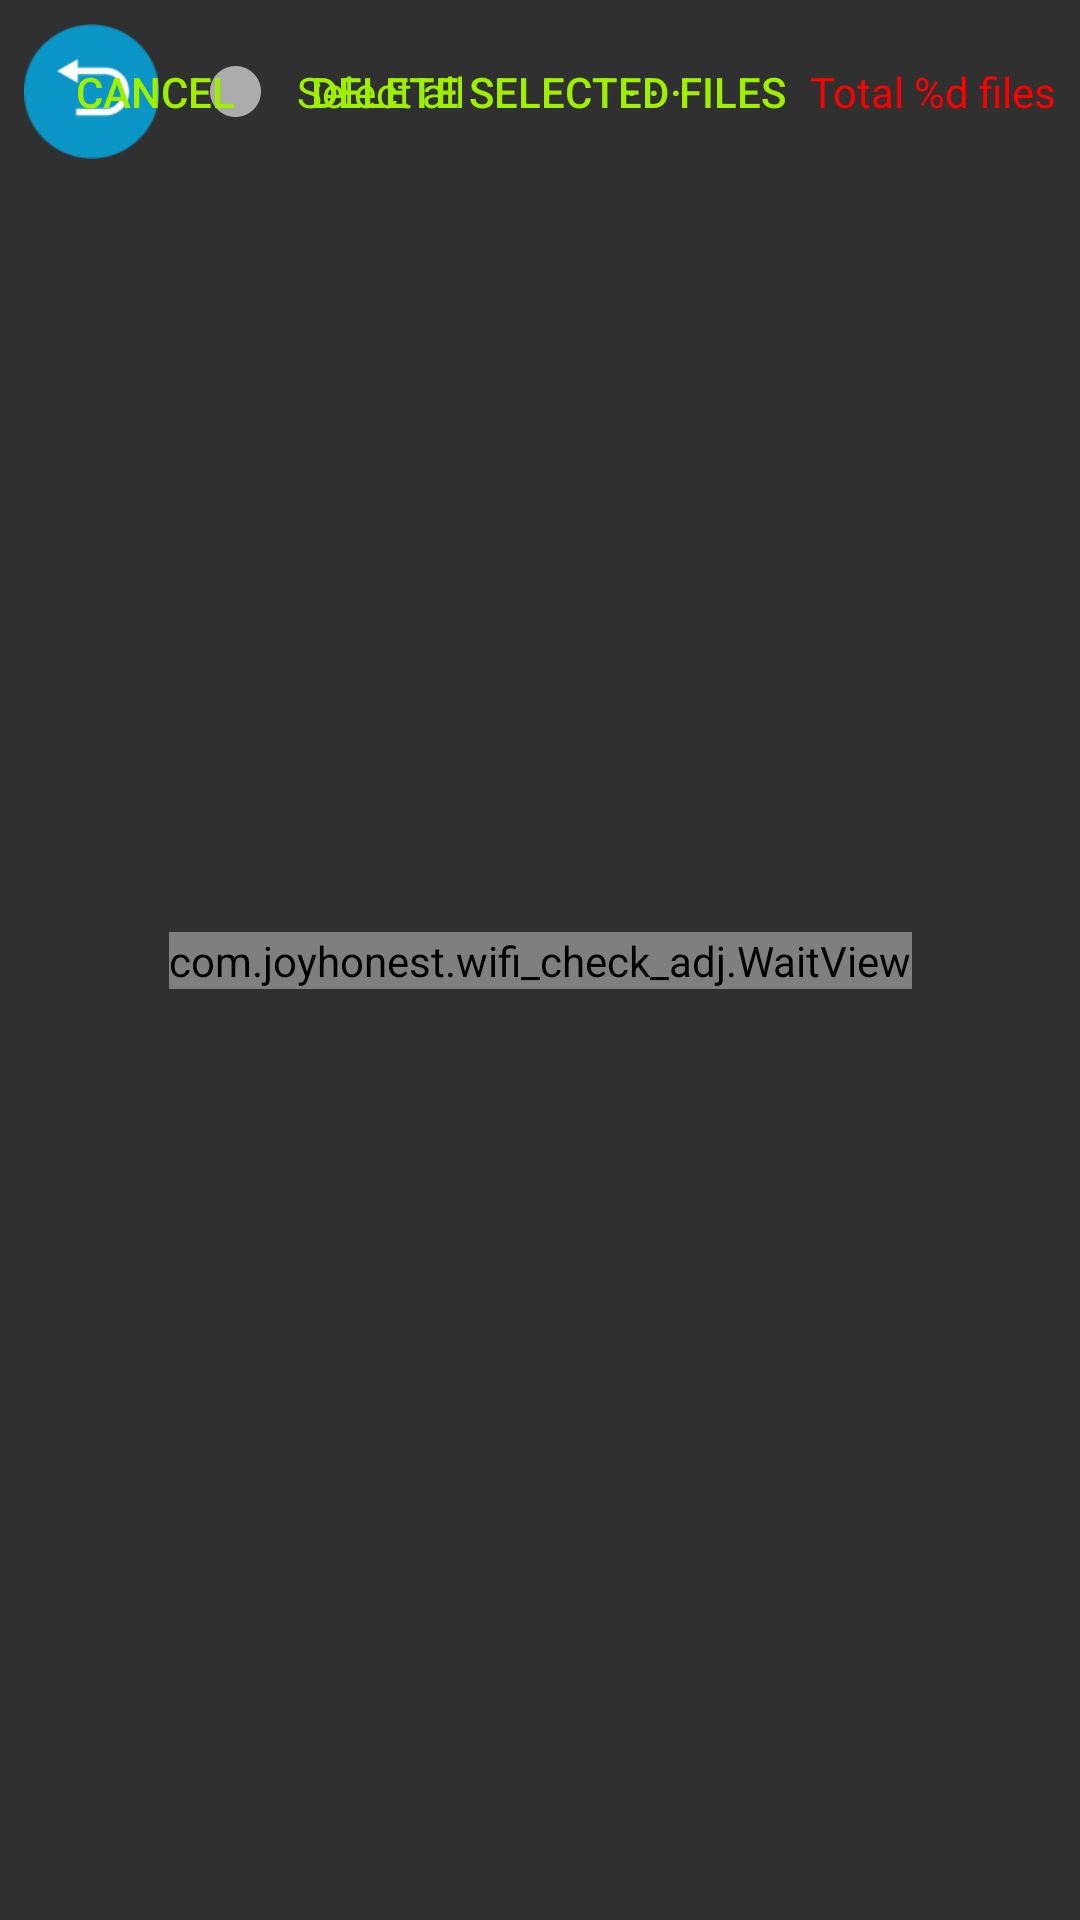

Named icons in this screenshot (1080x1920) and their centers, point (x, y):
back: point (91, 91)
